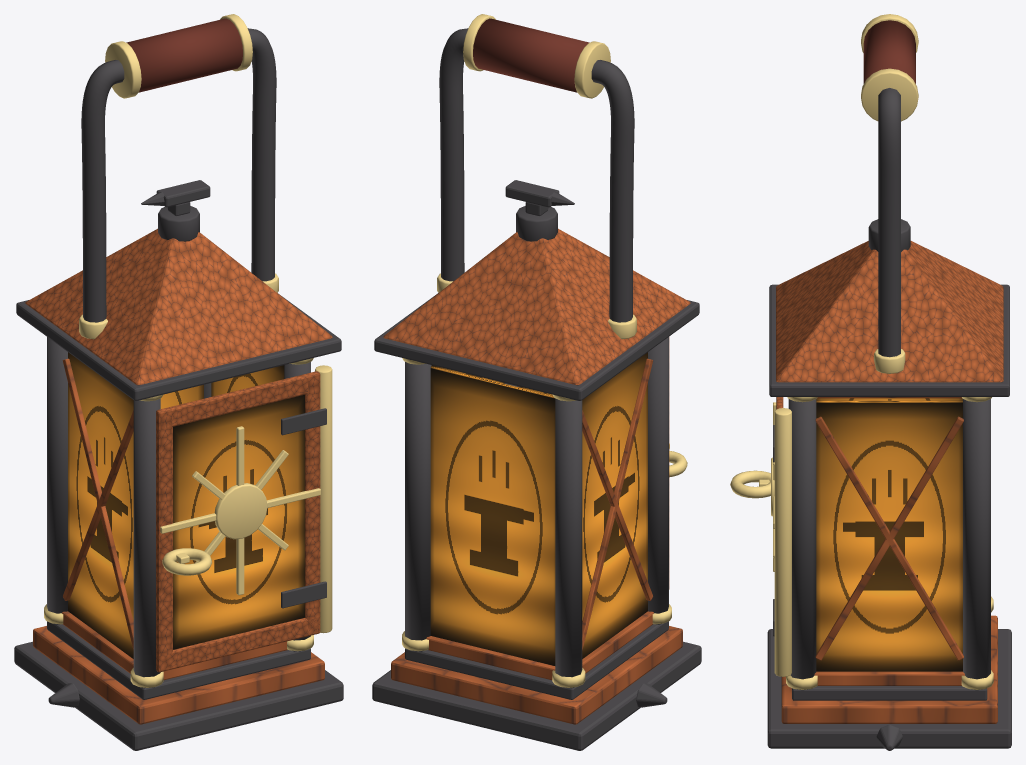
Rendered from opus.glb.
The picture shows the model from 3 angles, left to right: view 1: azimuth 30°, elevation 25°; view 2: azimuth 150°, elevation 25°; view 3: azimuth 270°, elevation 25°; orthographic projection.
Parts seen in each view (by area): view 1: Roof_Pyramid, Shutter_Pane, Pane_Left, Bail, Plinth_Foot, Plinth_Step, Post_2, Post_1, Roof_Eave, Grip_Leather, Shutter_Frame_Free, Plinth_Top (+19 smaller); view 2: Pane_Back, Roof_Pyramid, Pane_Left, Bail, Plinth_Foot, Post_1, Plinth_Step, Post_0, Post_2, Roof_Eave, Grip_Leather, Plinth_Top (+9 smaller); view 3: Pane_Right, Roof_Pyramid, Plinth_Foot, Post_0, Post_3, Bail, Plinth_Step, Roof_Eave, Shutter_Barrel, Plinth_Top, Grip_Leather, Strap_X+1_+1 (+8 smaller).
Boxes of the visible parts, <box> form: Roof_Pyramid: <box>25,228,332,385</box>; Shutter_Pane: <box>173,394,304,649</box>; Pane_Left: <box>68,352,133,658</box>; Bail: <box>81,28,276,322</box>; Plinth_Foot: <box>14,641,343,750</box>; Plinth_Step: <box>33,626,324,724</box>; Post_2: <box>133,398,160,688</box>; Post_1: <box>47,337,67,624</box>; Roof_Eave: <box>16,293,341,400</box>; Grip_Leather: <box>126,18,242,92</box>; Shutter_Frame_Free: <box>156,407,172,672</box>; Plinth_Top: <box>47,621,310,699</box>; Pane_Back: <box>430,366,555,665</box>; Roof_Pyramid: <box>383,228,690,385</box>; Pane_Left: <box>582,352,647,658</box>; Bail: <box>439,28,634,322</box>; Plinth_Foot: <box>372,641,701,750</box>; Post_1: <box>555,398,582,688</box>; Plinth_Step: <box>391,626,682,724</box>; Post_0: <box>405,362,431,651</box>; Post_2: <box>648,337,668,624</box>; Roof_Eave: <box>374,293,699,400</box>; Grip_Leather: <box>473,18,589,92</box>; Plinth_Top: <box>405,621,668,699</box>; Pane_Right: <box>816,400,962,671</box>; Roof_Pyramid: <box>776,241,1003,382</box>; Plinth_Foot: <box>767,629,1011,748</box>; Post_0: <box>963,399,990,690</box>; Post_3: <box>788,399,816,690</box>; Bail: <box>878,88,900,357</box>; Plinth_Step: <box>781,615,997,723</box>; Roof_Eave: <box>769,284,1009,396</box>; Shutter_Barrel: <box>774,408,791,676</box>; Plinth_Top: <box>792,686,987,700</box>; Grip_Leather: <box>863,20,915,83</box>; Strap_X+1_+1: <box>815,416,963,660</box>.
Size of what is drawn, in the model's own units: 0.172 by 0.4145 by 0.1615.
Materials: 7 (2 with a texture image).
